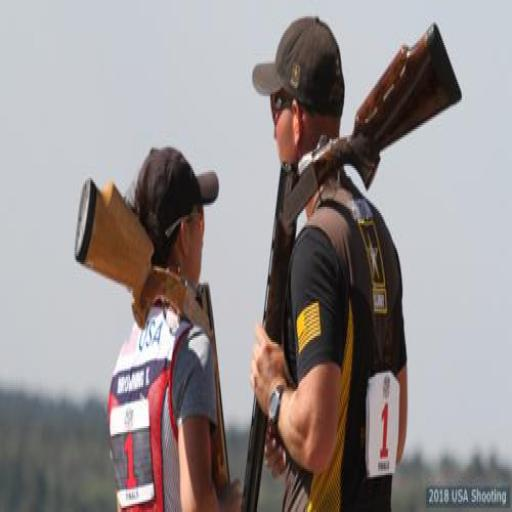shooting: (248, 34, 454, 504), (105, 143, 245, 510)
